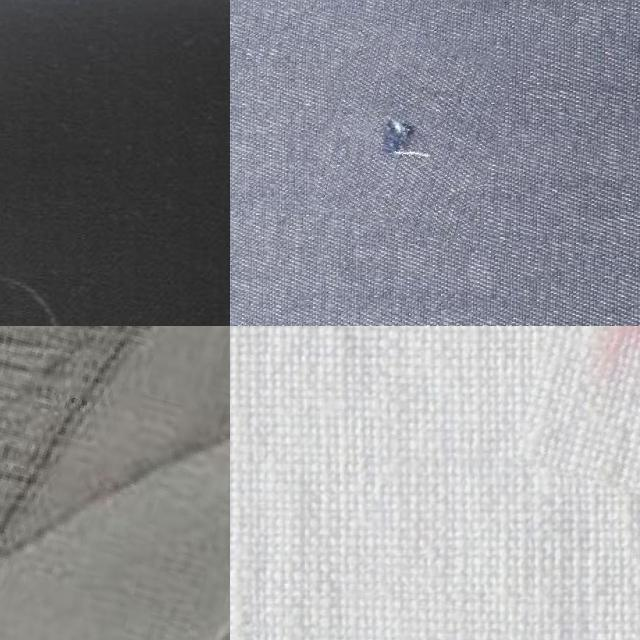Thread_other: (521, 326, 640, 514)
stains: (0, 326, 230, 640), (318, 28, 506, 234)
